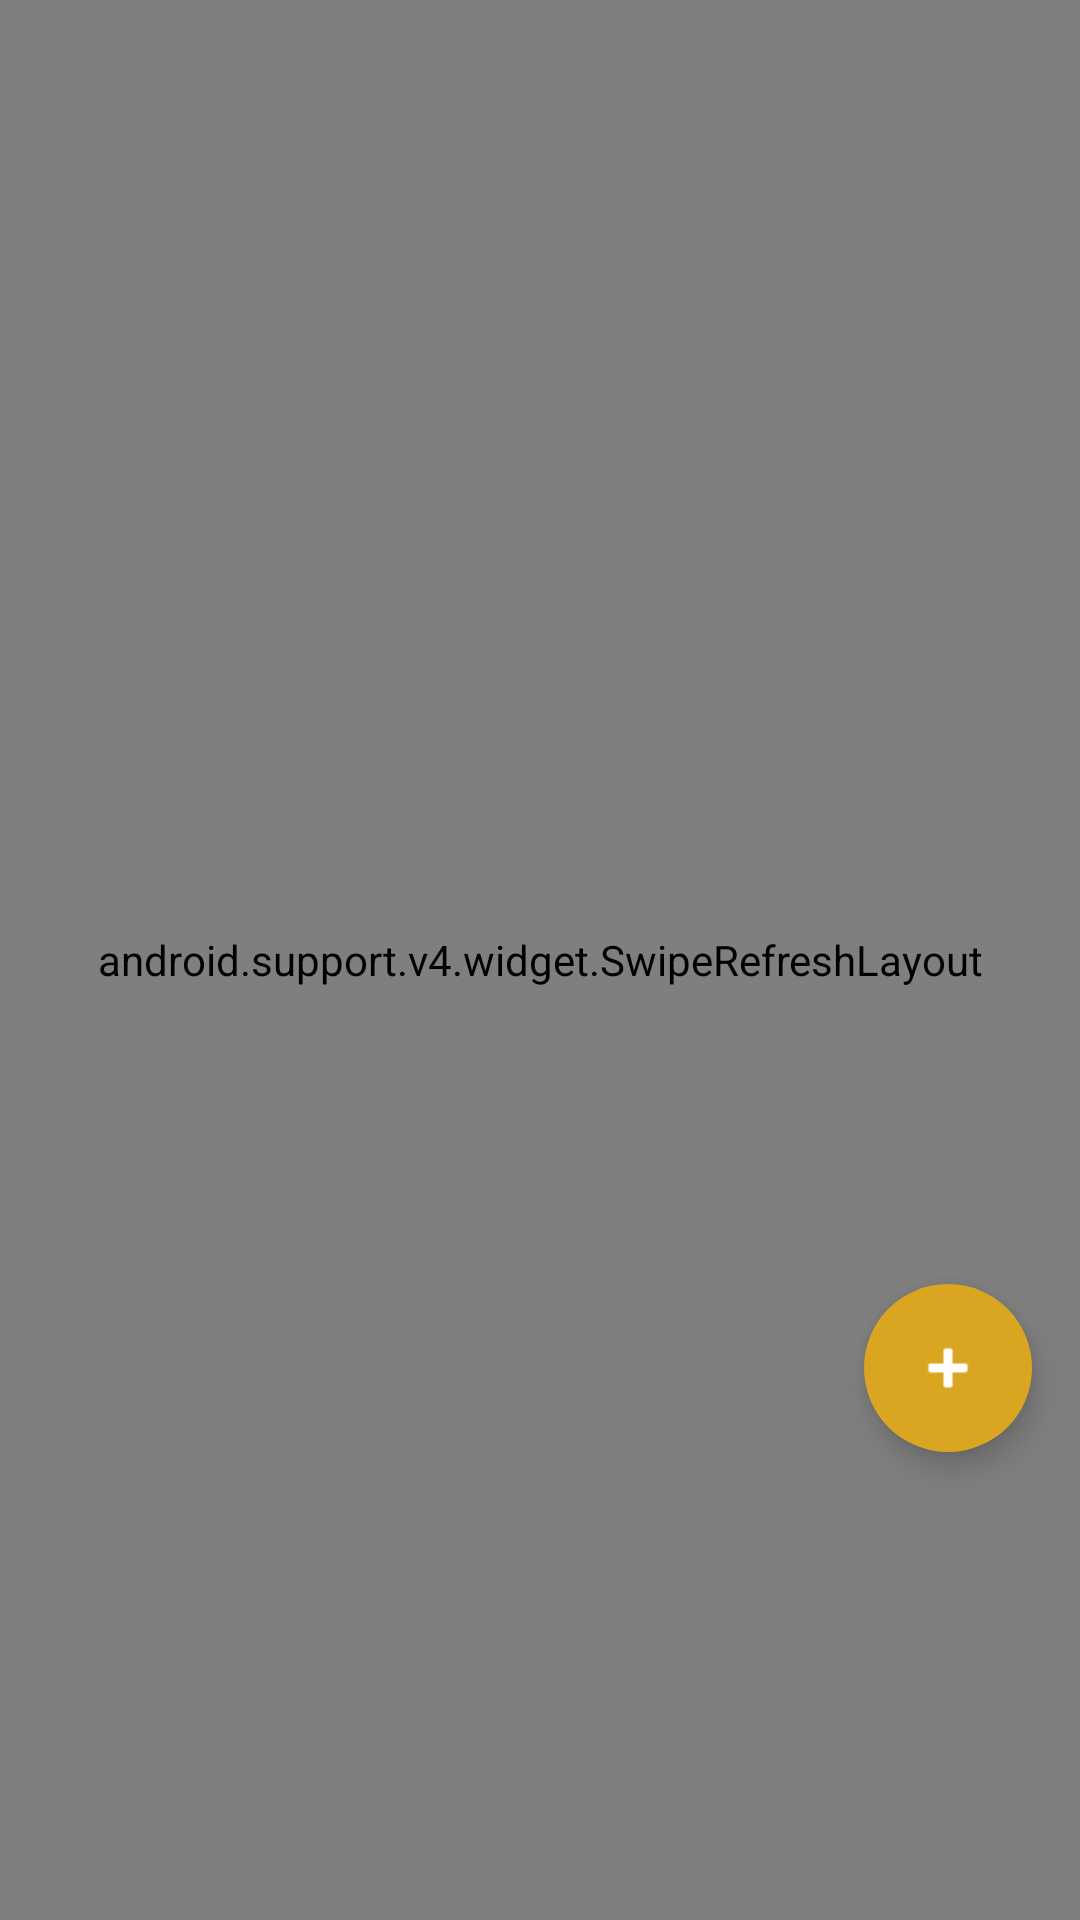

Locate icon controls on the screen. Image size 1080w x 1920h, boxes as (x1, y1, x2, y2).
add: (864, 1284, 1032, 1452)
